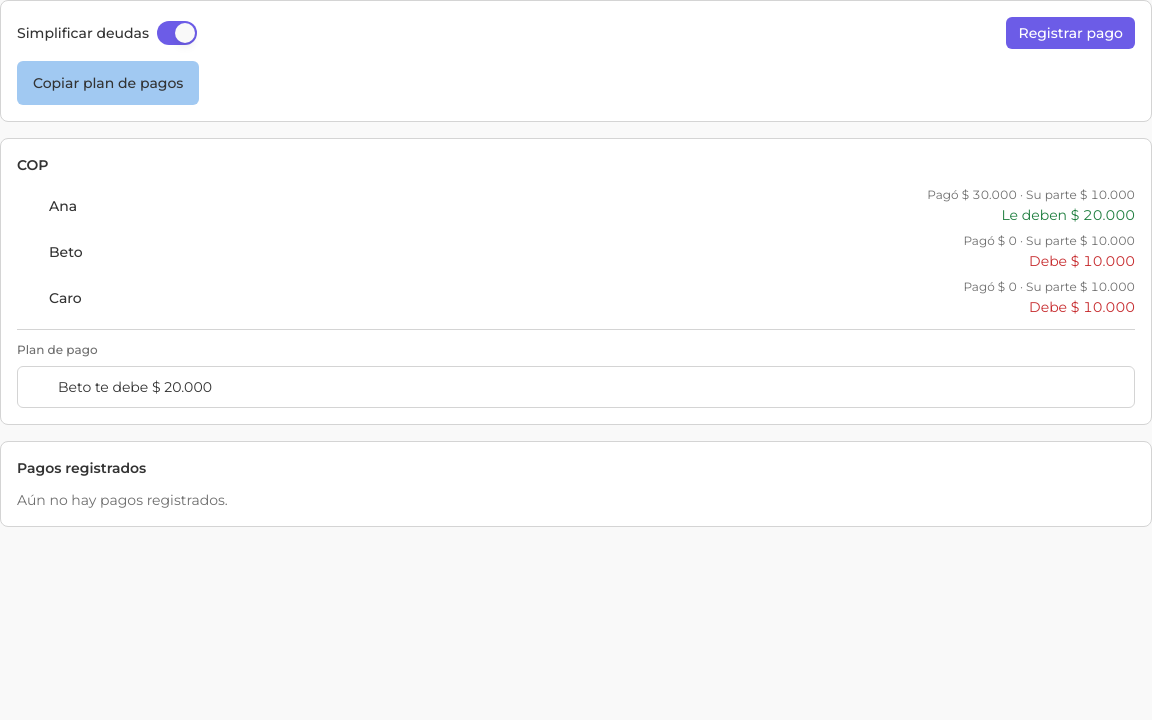
Test: BalancesTab › reveals the raw debts a simplified edge replaced on tap, not before
This screenshot has width=1152, height=720.
Expected: the text "¿Por qué este pago?" is not shown
Click the button "Beto te debe $ 20.000": (135, 387) x1=17 y1=366 x2=1135 y2=408
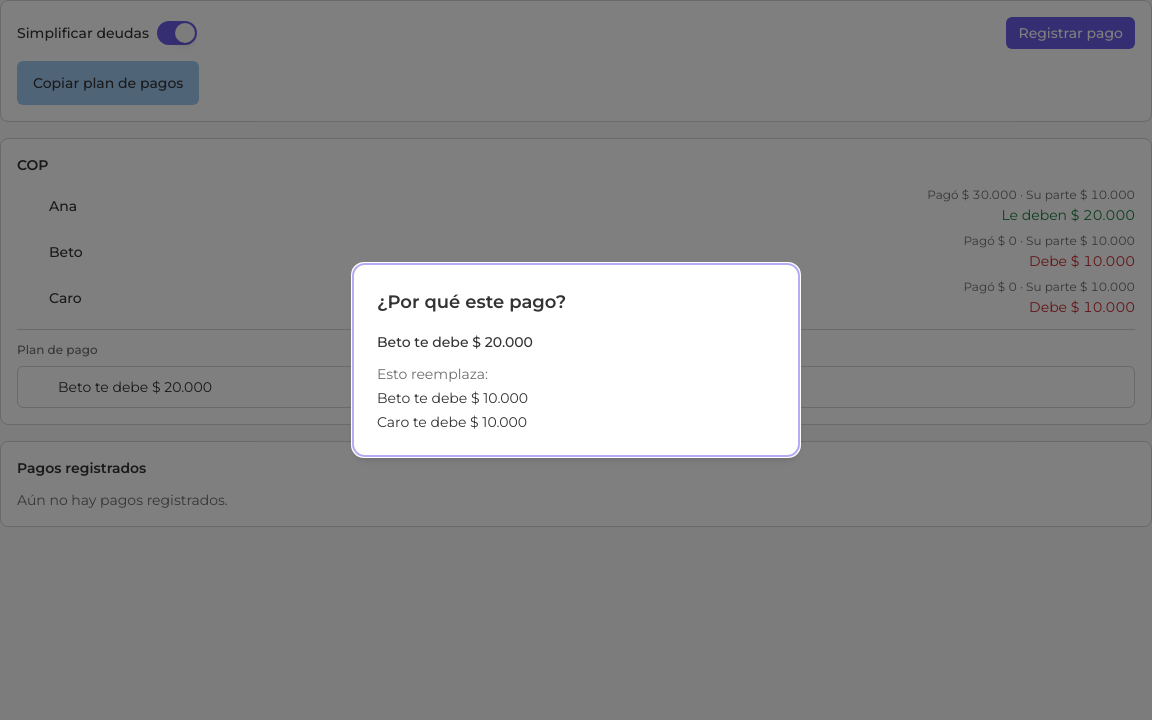
Expected: the heading "¿Por qué este pago?" is shown, x1=377 y1=291 x2=566 y2=313
Expected: the text "Esto reemplaza:" is shown, x1=377 y1=365 x2=488 y2=383
Expected: the list item "Caro te debe $ 10.000" is shown, x1=377 y1=413 x2=527 y2=431
